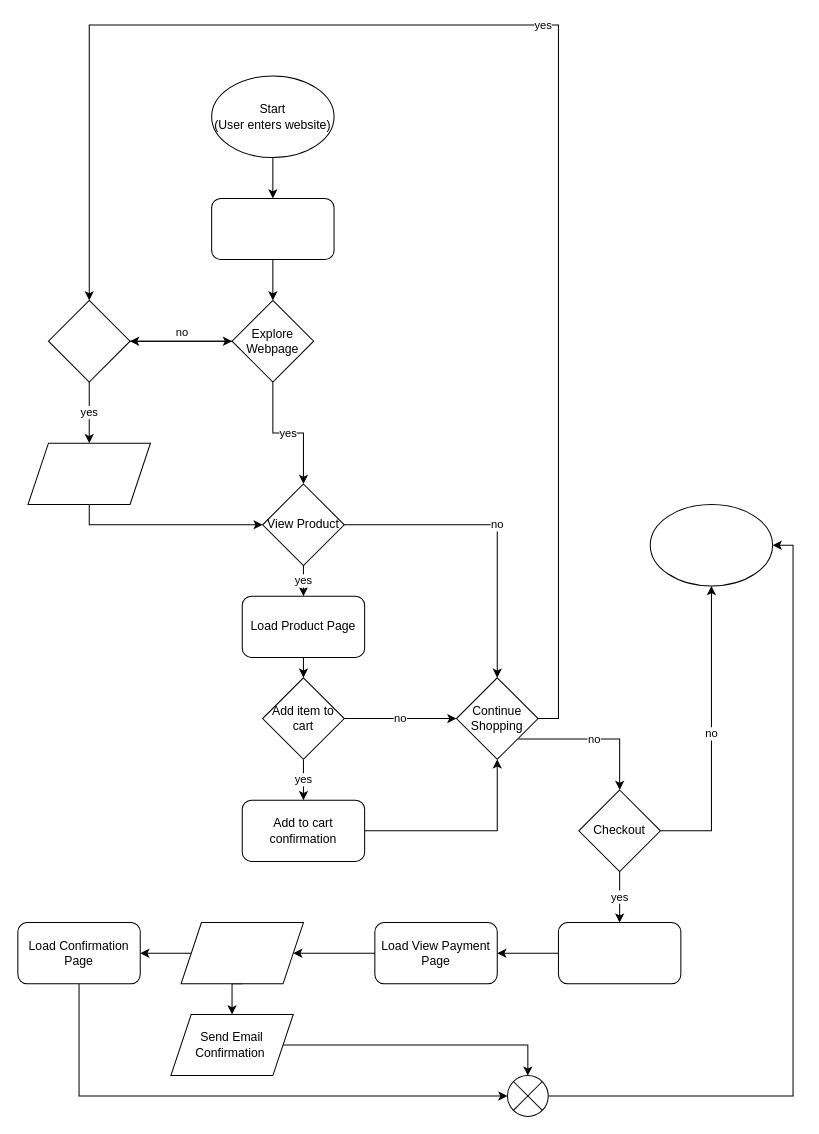
The diagram is 819 pixels wide and 1134 high, and some of its shapes have lost their labels. The shapes that lost their labels are listed below. From the top down, each one's centre as x and y in pixels, then its label:
At point 272,228: "Homepage Loads".
At point 88,340: "Search for product".
At point 88,473: "User search input".
At point 711,544: "End (User Leaves Site)".
At point 241,953: "User Payement Input".
At point 619,953: "Load Cart Page".
